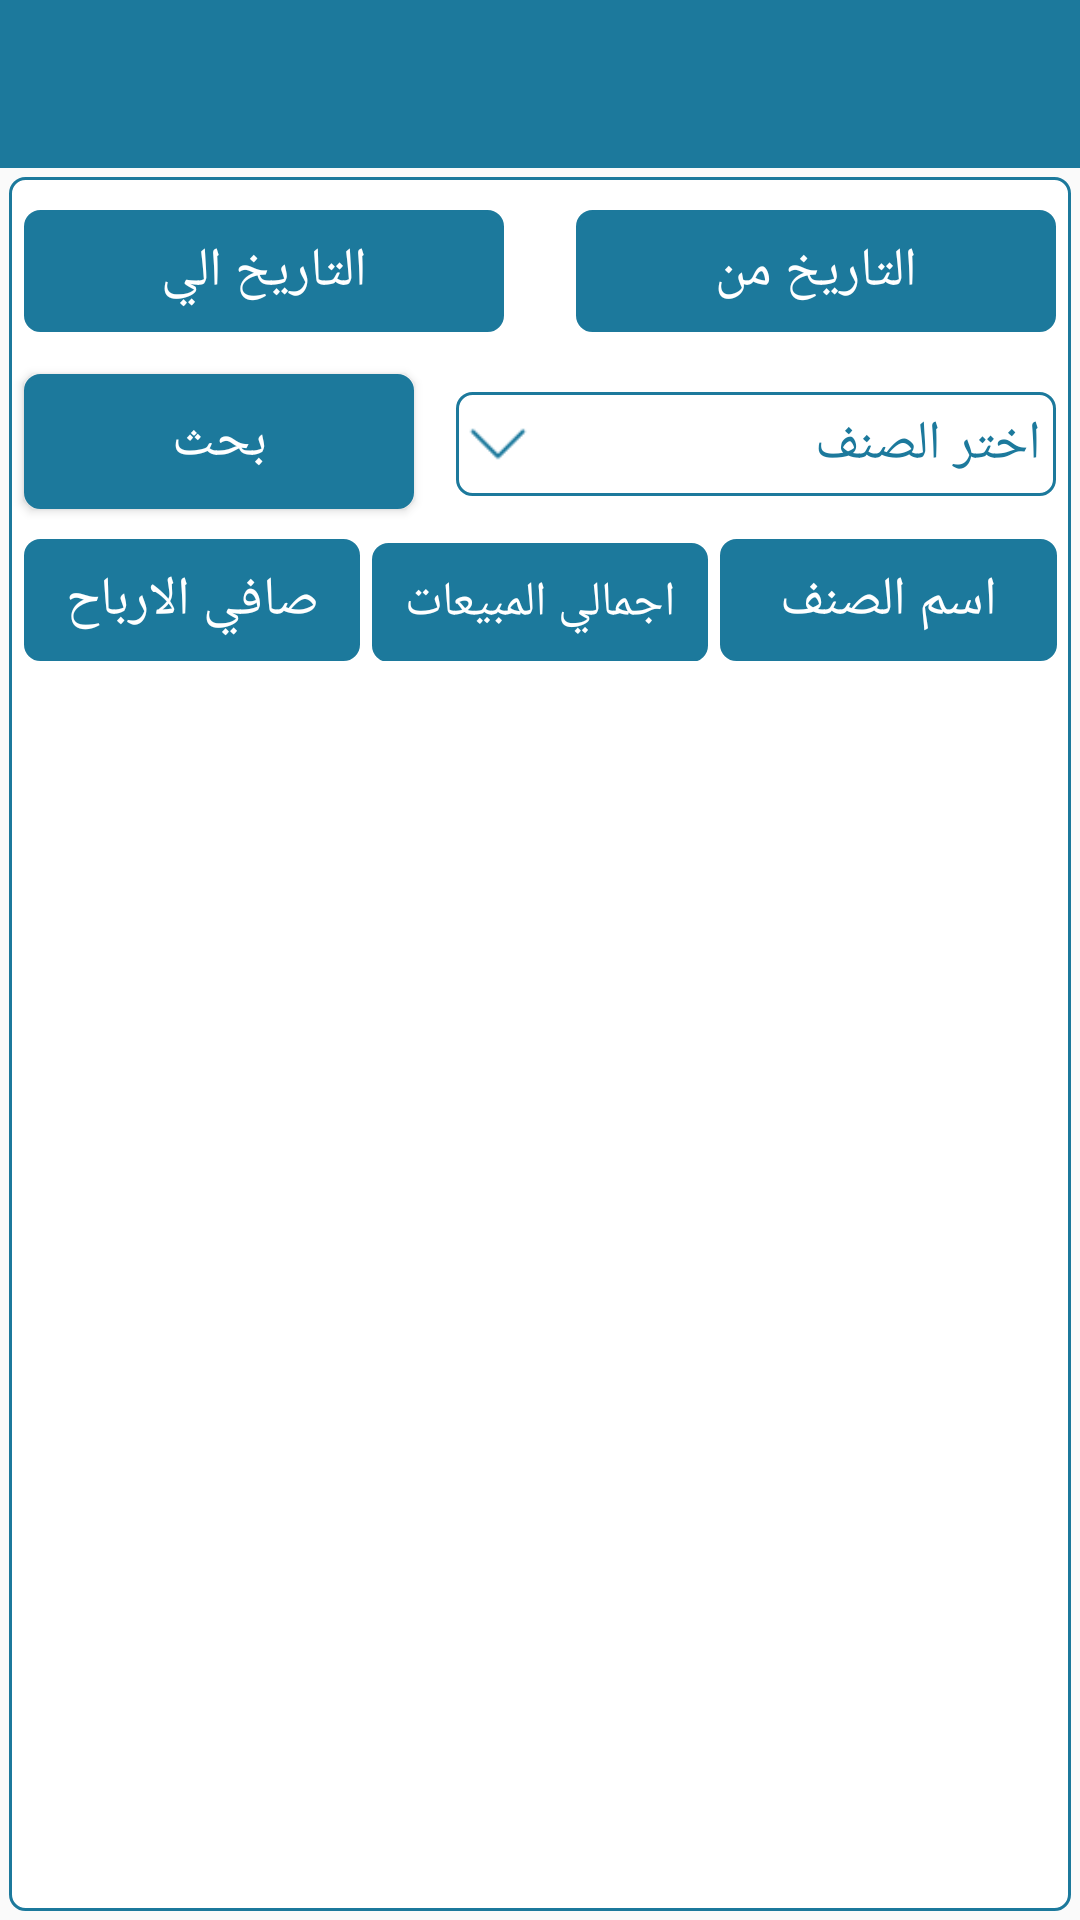

Where to tap for icons on this 1080w x 1920h app screen, as [x,y]:
down arrow: [498,444]
